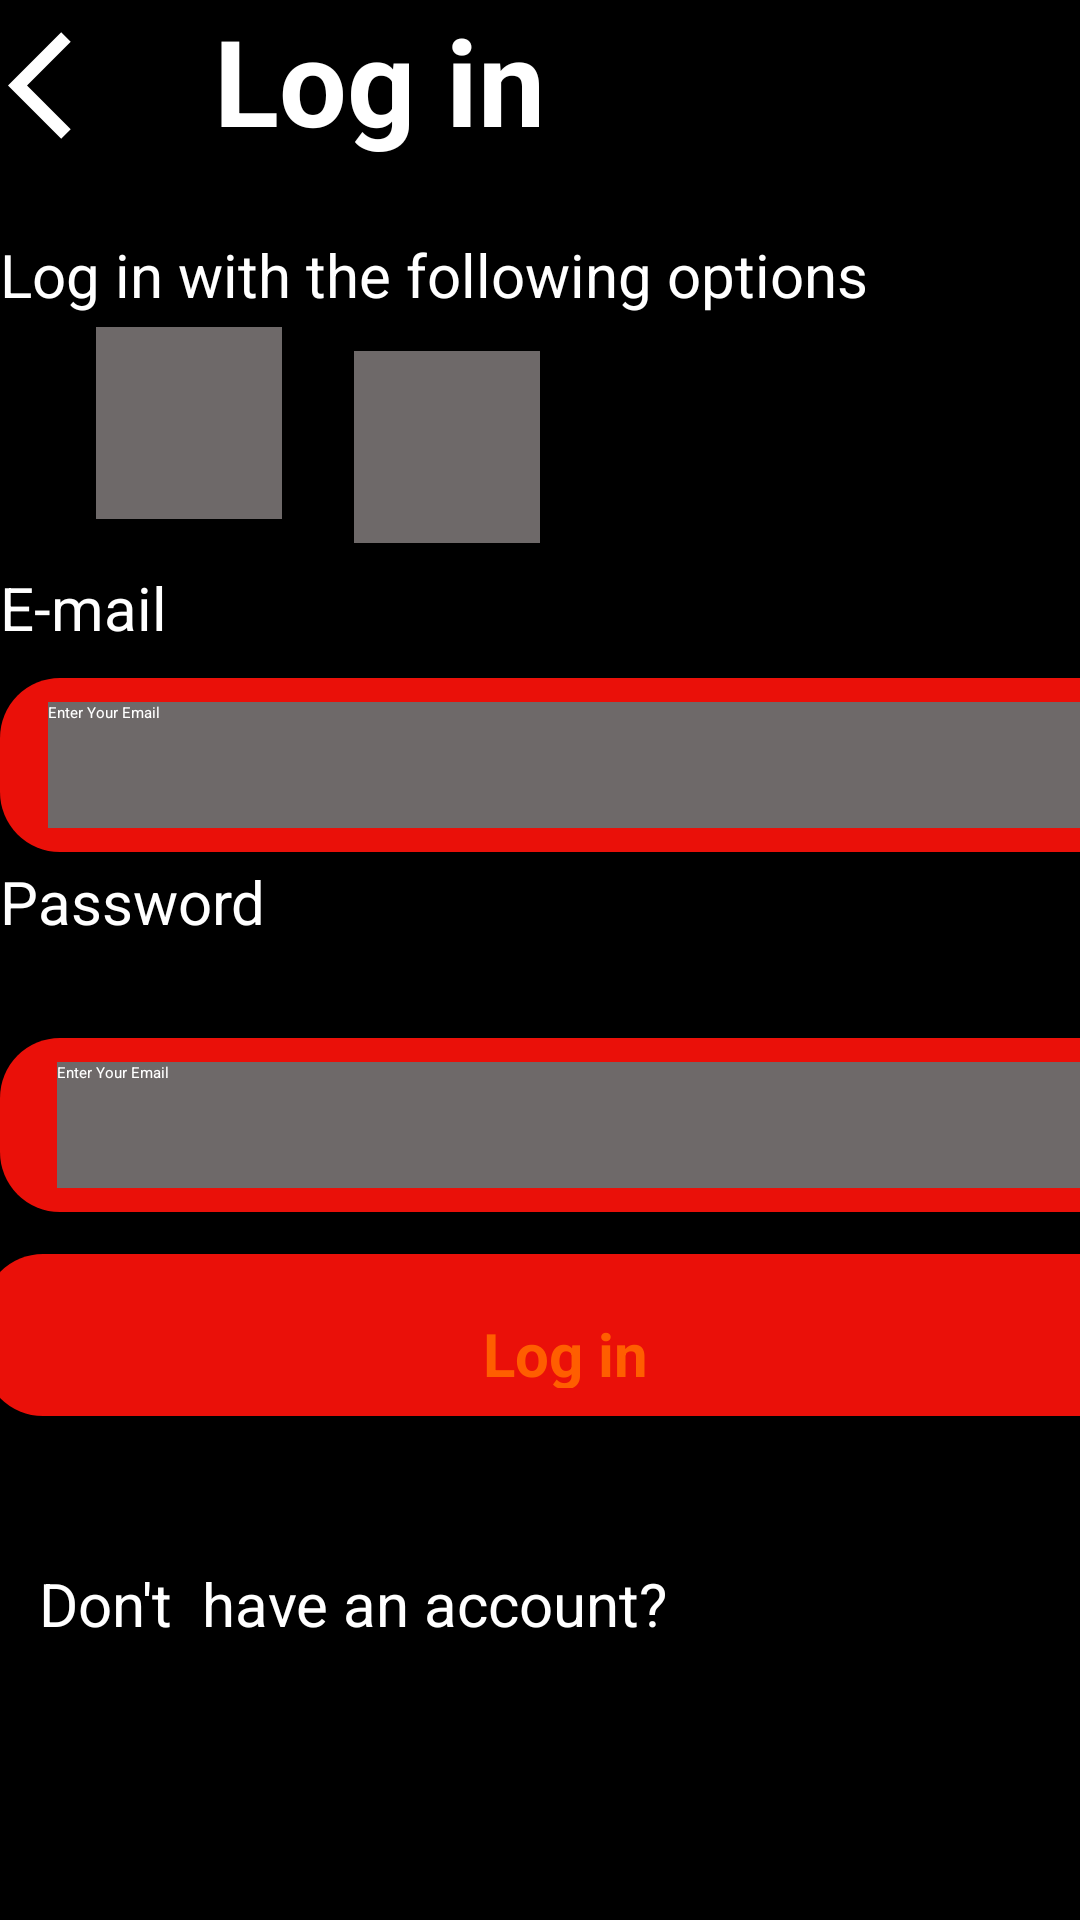

Named icons in this screenshot (1080×1920) and their centers, (x,y):
arrow back: (39,85)
